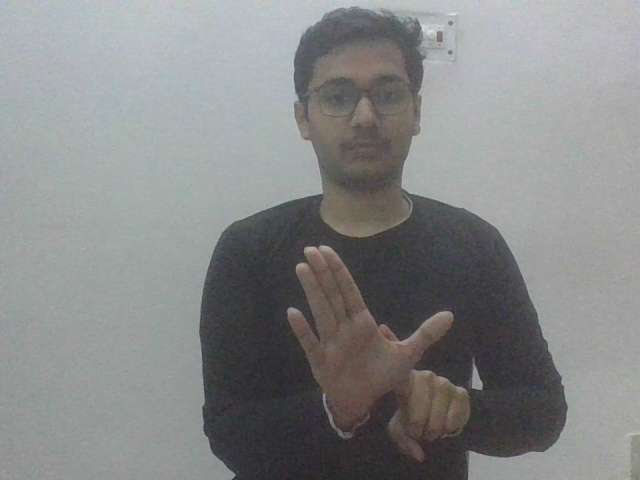Y: (283, 242, 471, 468)
